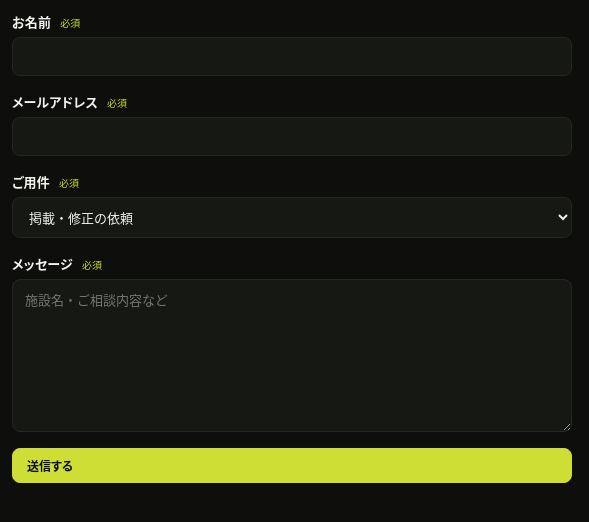
ContactForm › inline validation › flags a malformed email on blur
In the field labelled "メールアドレス 必須": (292, 136) [12,117,572,156], type "not-an-email"
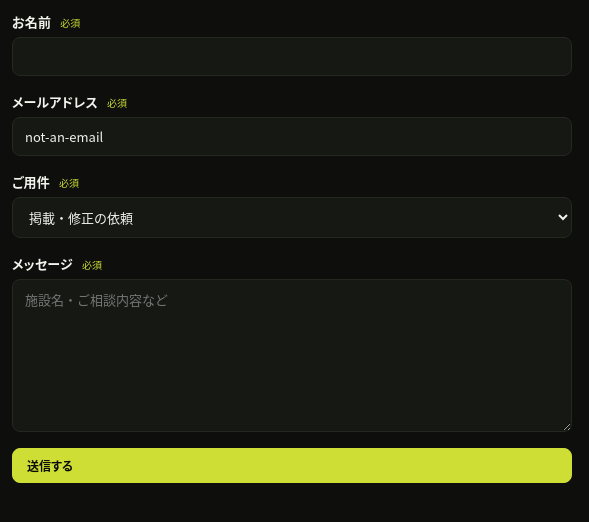
Leave the field labelled "メールアドレス 必須", box [12,117,572,156]
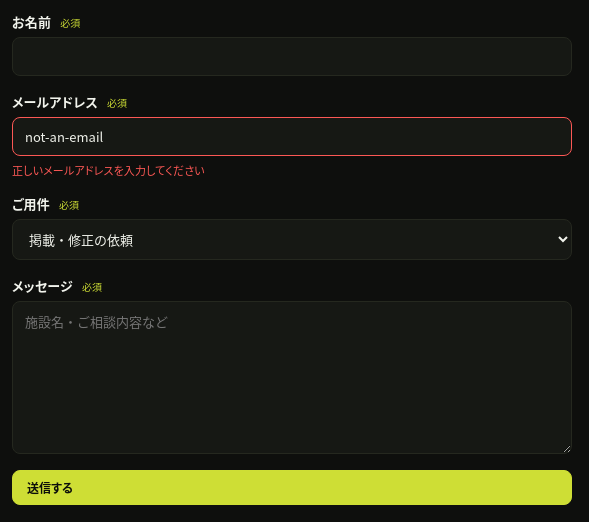
Now the text "正しいメールアドレスを入力してください" is shown, box [12,162,205,178]
